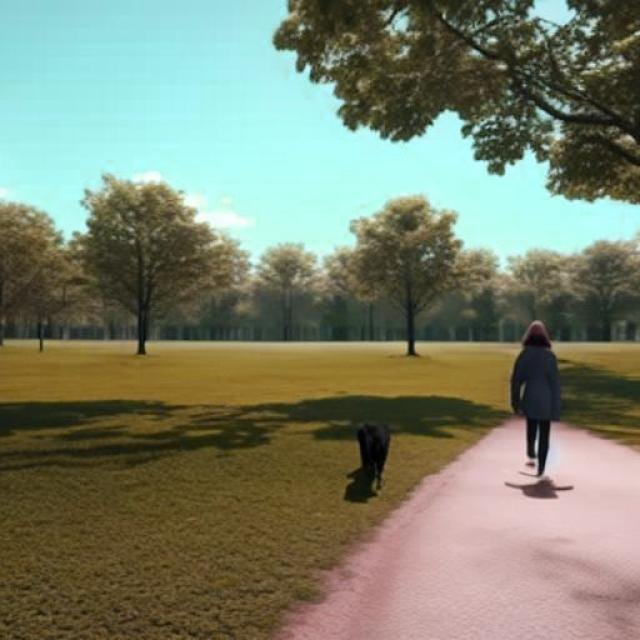Unleashed_Dog: (356, 398, 541, 498)
